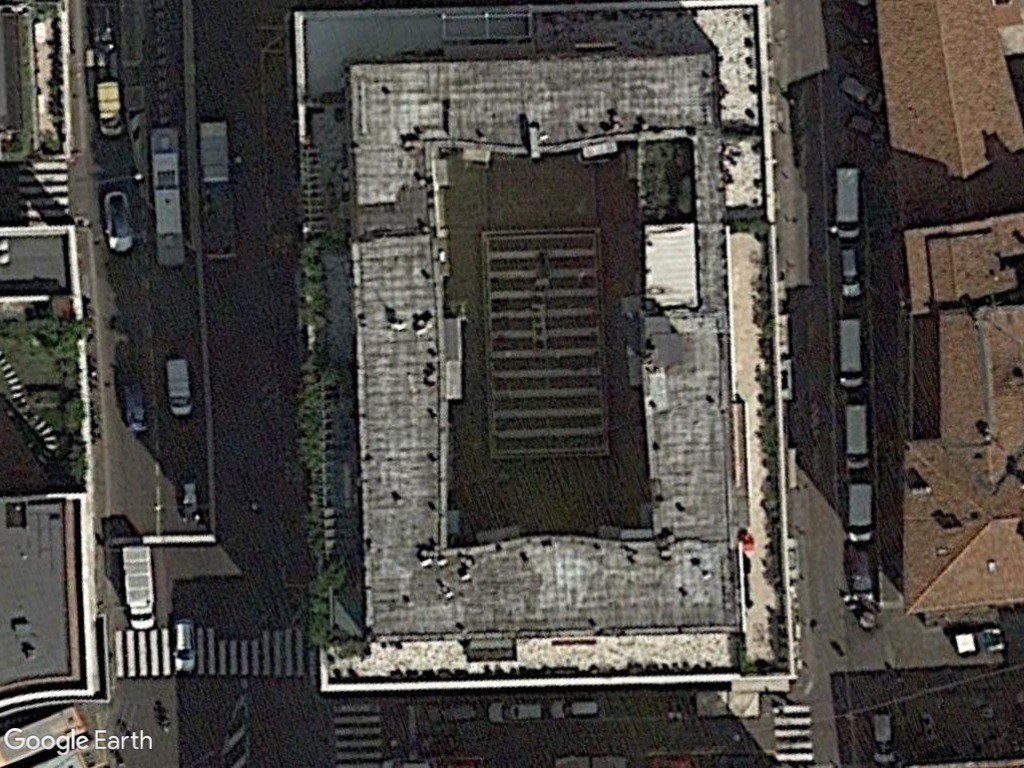bus: (192, 116, 242, 265), (146, 120, 191, 270)
car: (167, 614, 202, 679), (867, 710, 901, 768), (482, 698, 548, 726), (543, 696, 605, 725), (834, 245, 866, 300)
other: (97, 188, 141, 257)
truck: (115, 541, 158, 632), (90, 77, 129, 140)
van: (829, 312, 871, 392), (829, 159, 867, 245), (840, 396, 875, 474), (159, 355, 197, 421), (844, 480, 876, 547)
